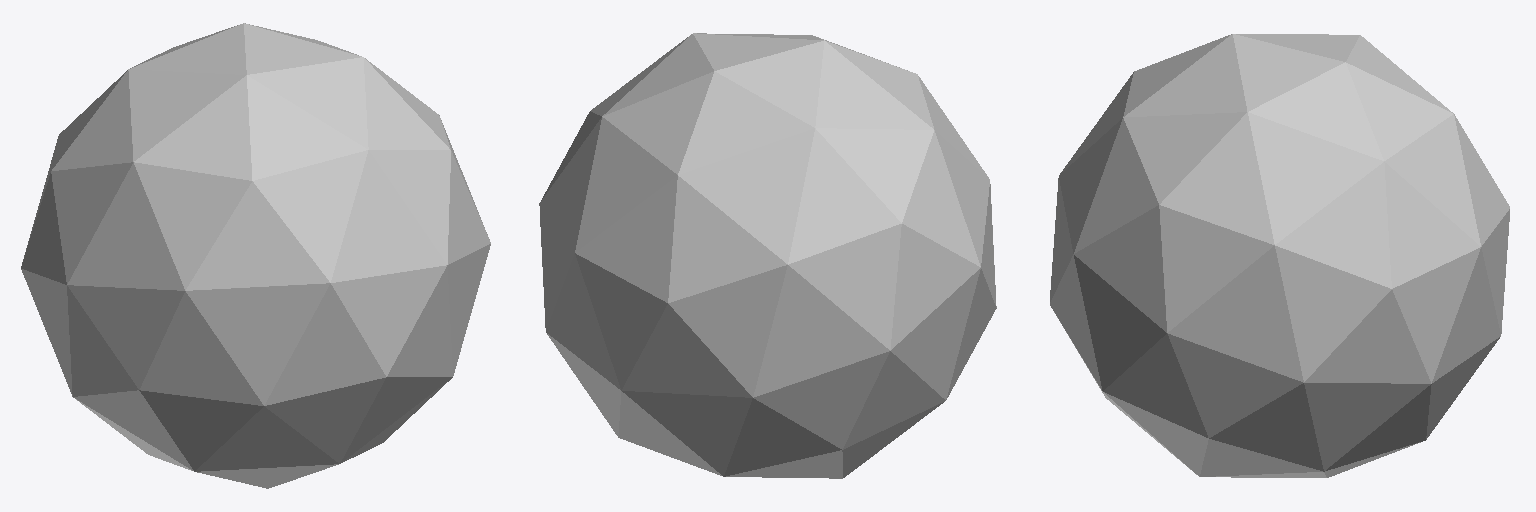
Rendered from figurab.obj.
3 renders of one model, left to right at view 1: azimuth 30°, elevation 25°; view 2: azimuth 150°, elevation 25°; view 3: azimuth 270°, elevation 25°, orthographic.
Visible parts, largest first — view 1: Plane; view 2: Plane; view 3: Plane.
Boxes of the visible parts, x1,y1,x2,y2 form: Plane: [21, 23, 490, 488]; Plane: [539, 33, 996, 478]; Plane: [1050, 34, 1509, 477].
Size of the model in its own units: 0.207 by 0.203 by 0.2056.